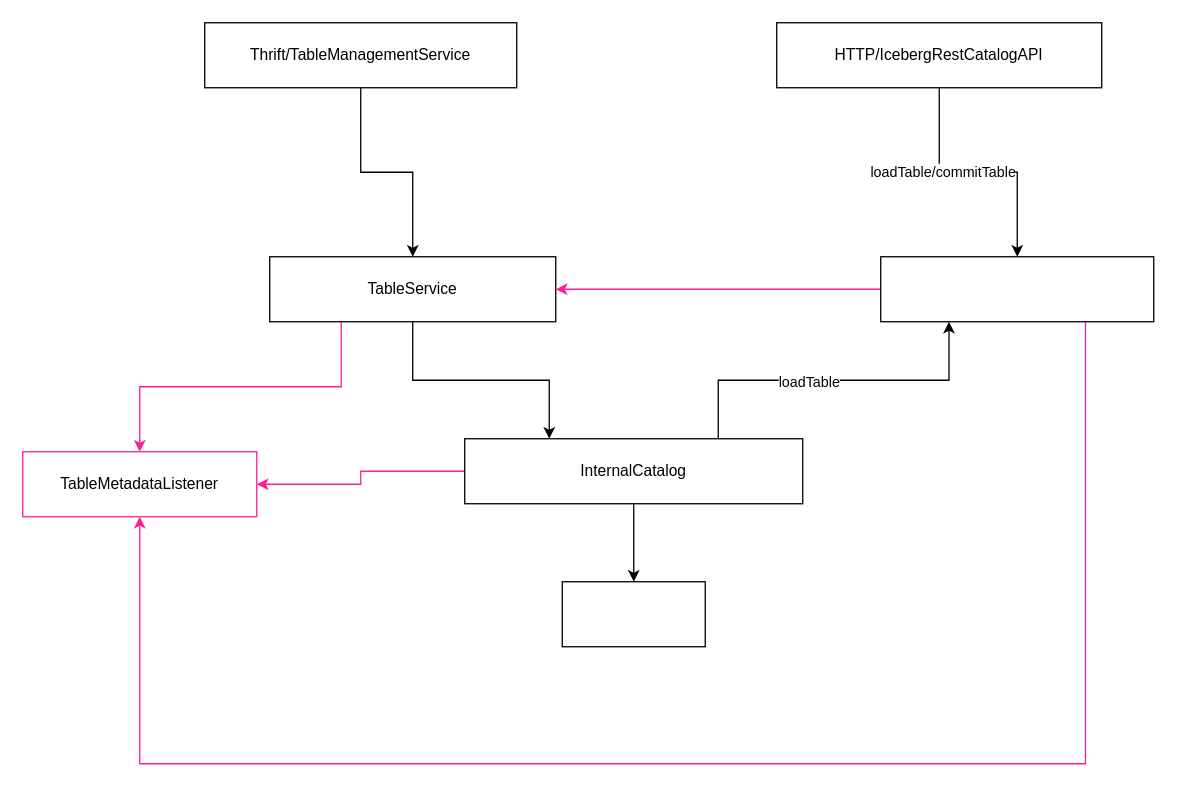
This 1177x797 diagram has some shape labels left out. The shapes that lost their labels are listed below. From the top down, each one's centre as x and y in pixels, then its label:
At (1016,288): "iceberg/TableOperations".
At (633,613): "Database".
